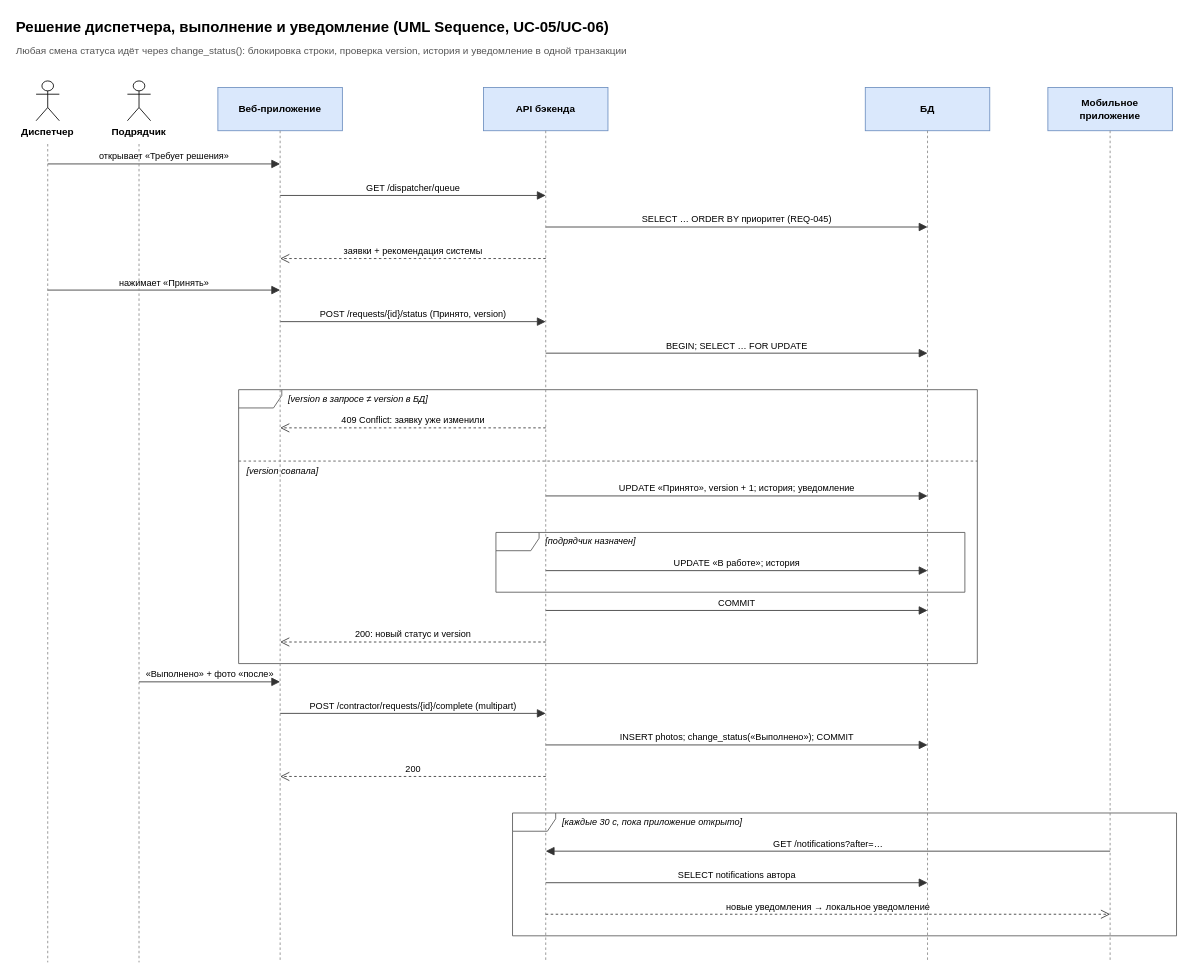
Some shapes in this 1191 by 978 pixel diagram are drawn without their labels. The shapes that lost their labels are listed below. From the top down, each one's box as (x1, y1, x2, y2) in pixels, then its label:
(238, 389, 977, 664): alt
(495, 532, 965, 592): opt
(512, 812, 1177, 936): loop
